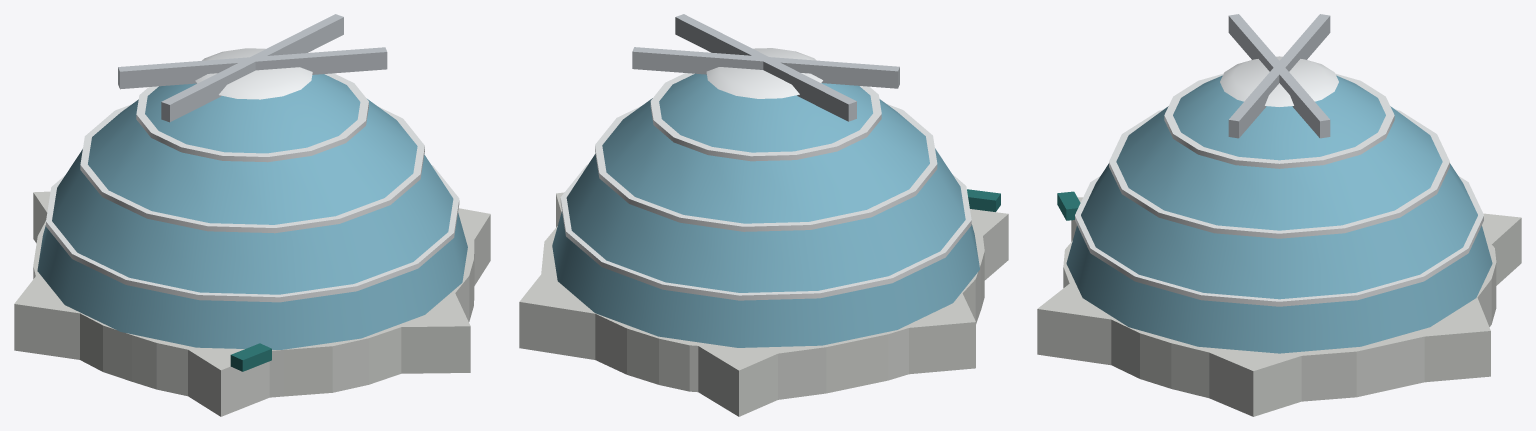
File: nmns-greenhouse.glb
The picture shows the model from 3 angles, left to right: view 1: azimuth 30°, elevation 25°; view 2: azimuth 150°, elevation 25°; view 3: azimuth 270°, elevation 25°; orthographic projection.
Visible parts, largest first — view 1: nmns-greenhouse; view 2: nmns-greenhouse; view 3: nmns-greenhouse.
Part boxes in pixels (x1=…): nmns-greenhouse: x1=14, y1=14, x2=490, y2=416; nmns-greenhouse: x1=519, y1=14, x2=1008, y2=416; nmns-greenhouse: x1=1037, y1=14, x2=1521, y2=416.
Size of the model in its own units: 64.6 by 33.8 by 61.4.
